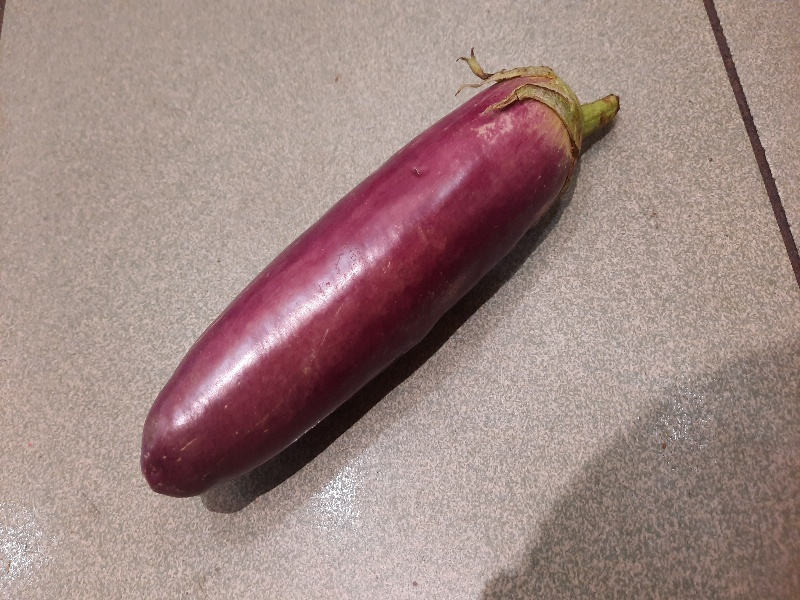vege: (135, 59, 627, 505)
